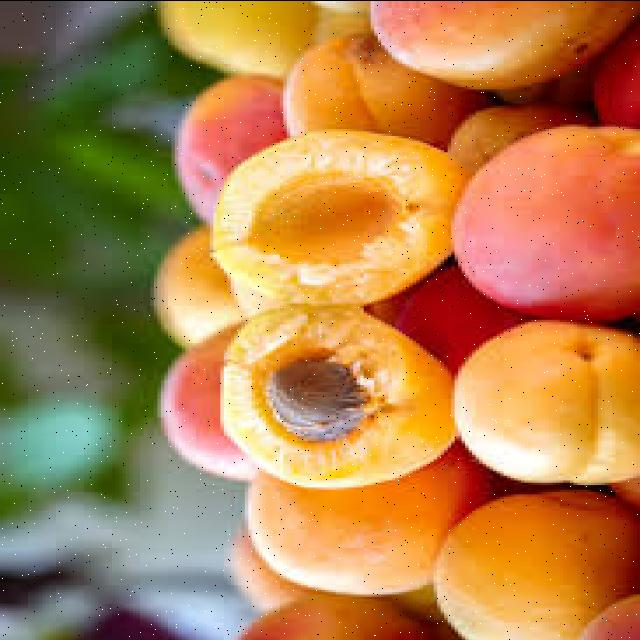Cekirdek: (266, 358, 364, 440)
Kayisi: (210, 130, 462, 314), (224, 307, 451, 489), (451, 126, 637, 321), (434, 491, 637, 640), (455, 321, 637, 484)
